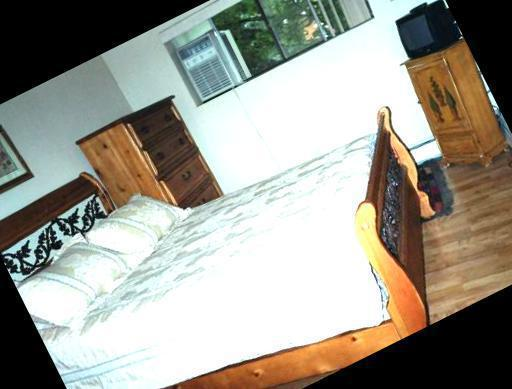Armario: (119, 87, 223, 218)
